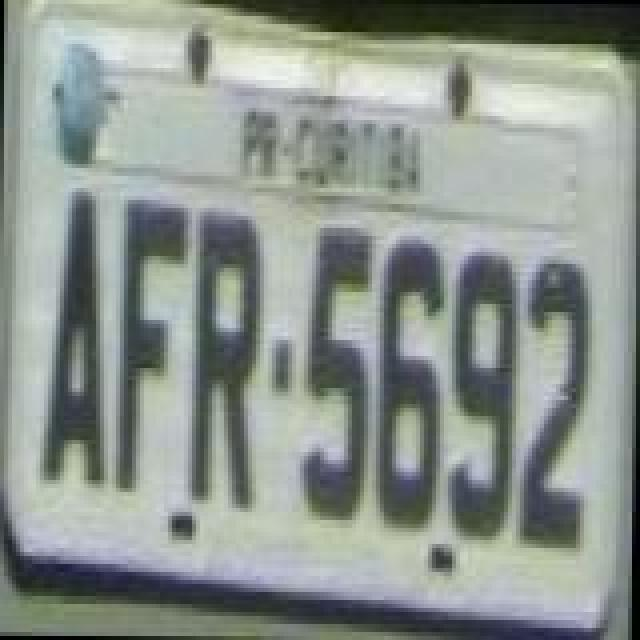2: (518, 256, 594, 552)
5: (302, 220, 374, 524)
6: (378, 238, 446, 534)
9: (446, 244, 522, 544)
A: (44, 192, 112, 488)
F: (118, 198, 190, 494)
R: (192, 202, 260, 514)
